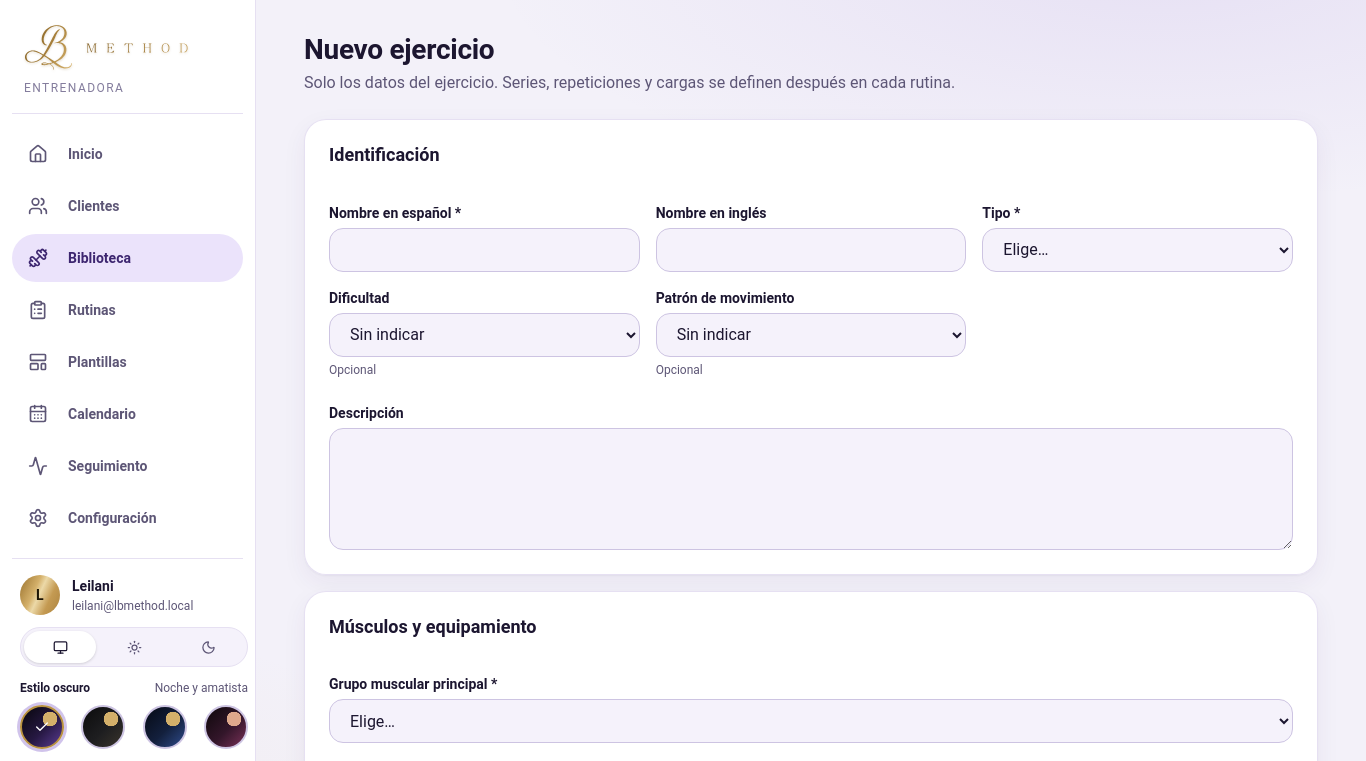
Test: biblioteca de ejercicios › muestra el error de duplicado que devuelve el servidor
The image size is (1366, 761).
Type "hip thrust con barra" into the field labelled "Nombre en español *" at [484, 250], box [329,228,640,272]
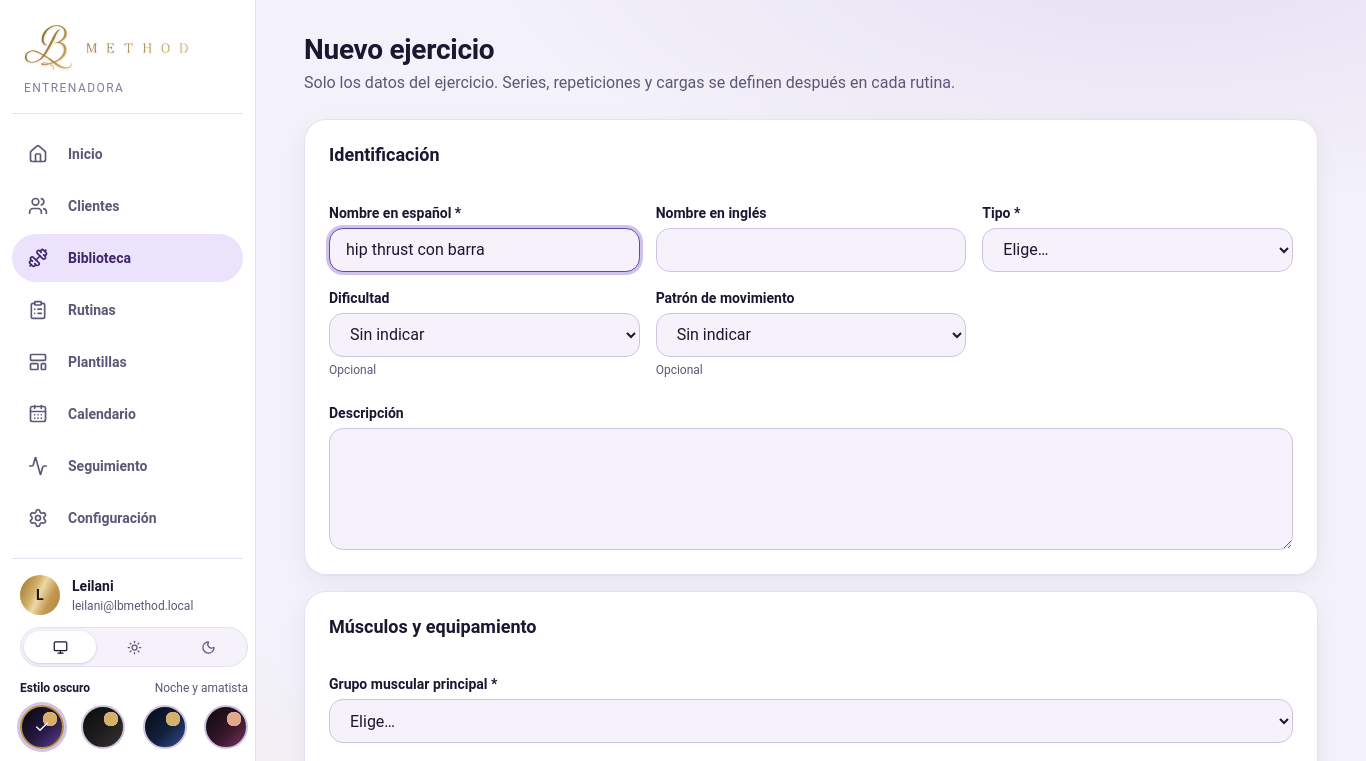
Select "Fuerza" in the dropdown labelled "Tipo *" at [1138, 250], box [982,228,1293,272]
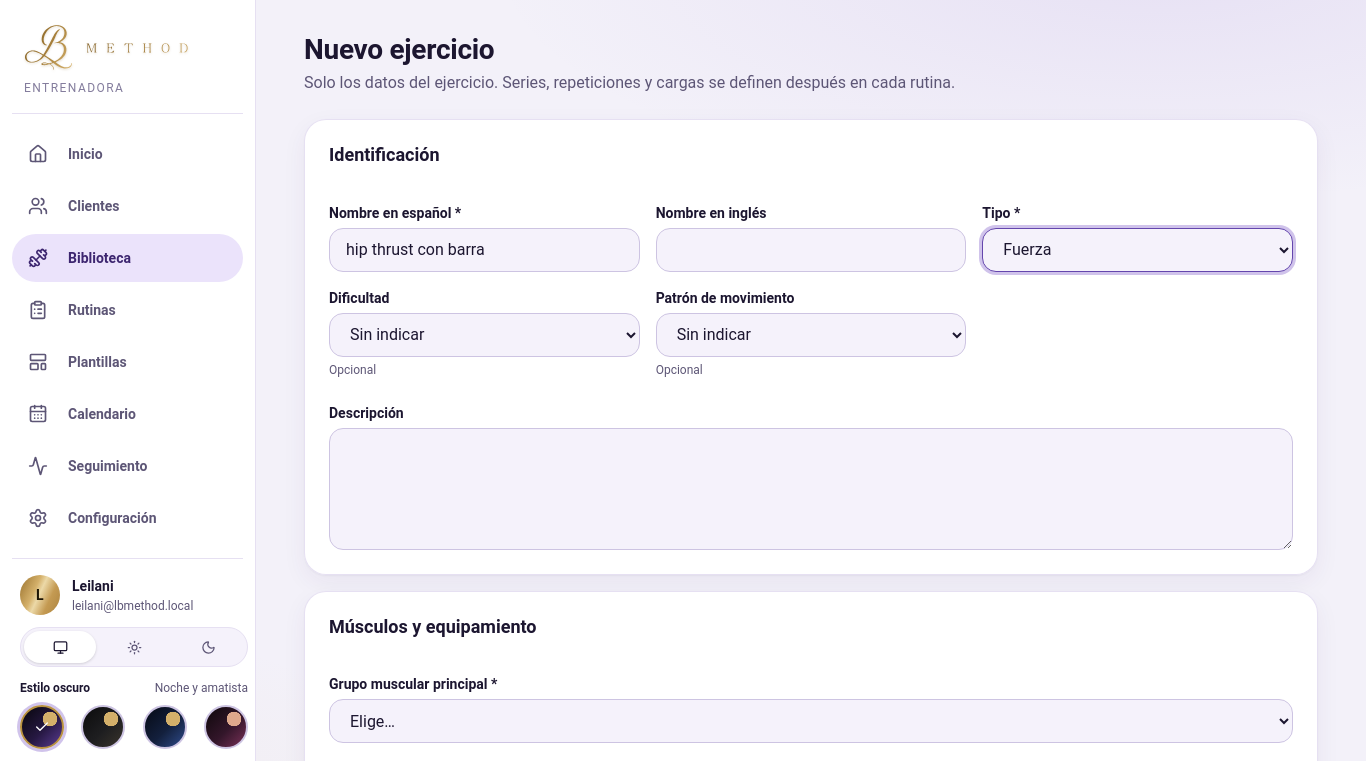
Select "Glúteos" in the dropdown labelled "Grupo muscular principal *" at [811, 721], box [329,699,1293,743]
(page scrolled)
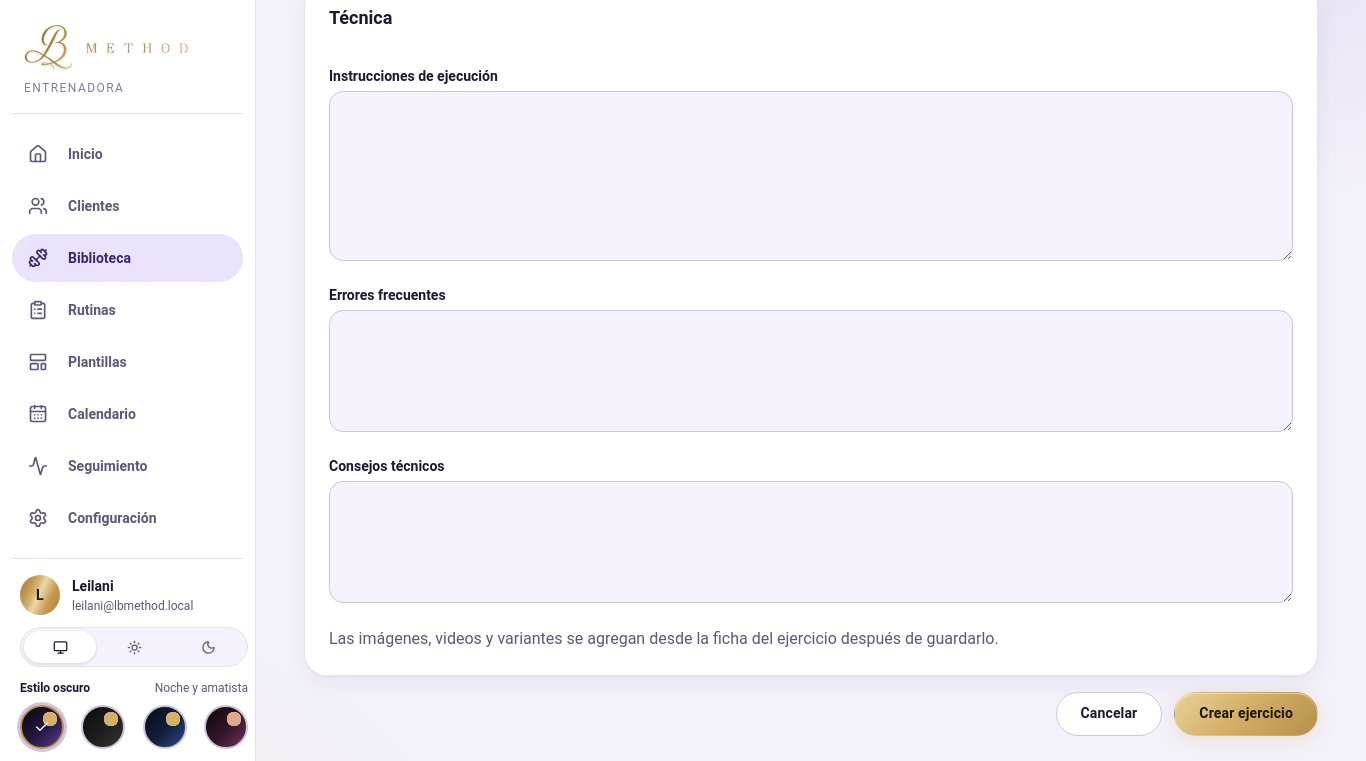
Click the button "Crear ejercicio" at [1246, 714], box [1174,692,1318,736]
(page scrolled)
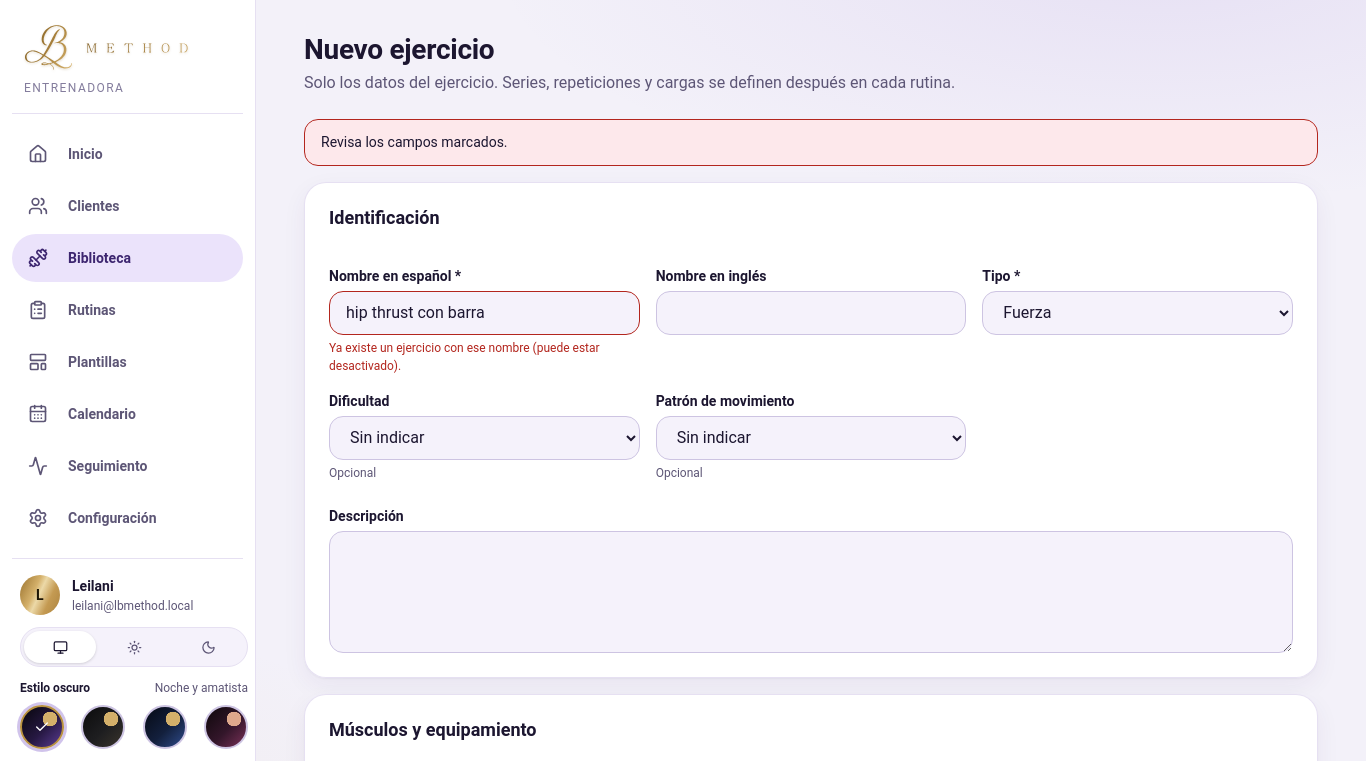
Expected: the text "Ya existe un ejercicio con ese nombre (puede estar desactivado)." is shown, [329,338,640,374]
